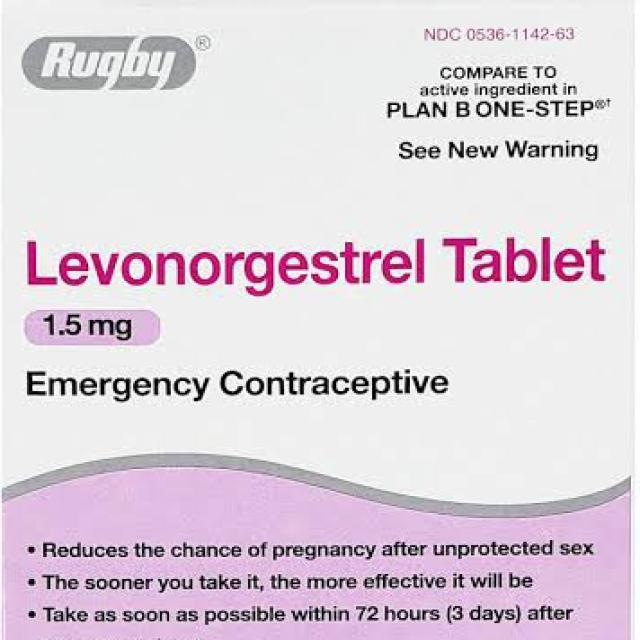drug-name: (36, 30, 180, 100)
